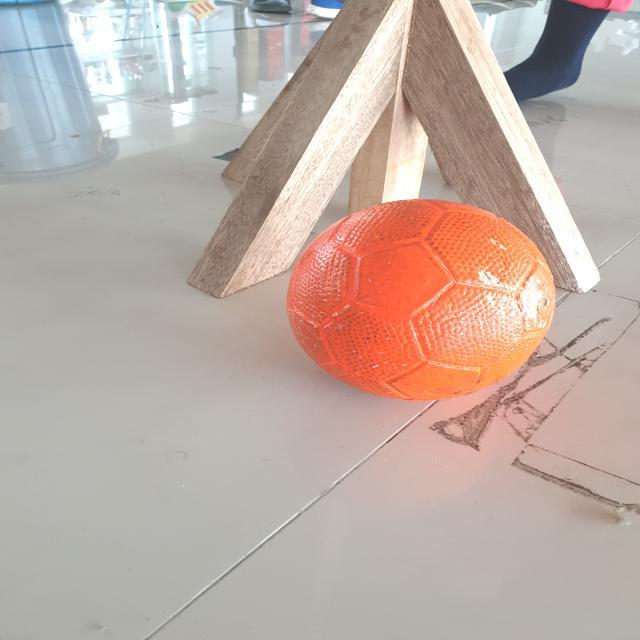bola: (280, 193, 560, 409)
